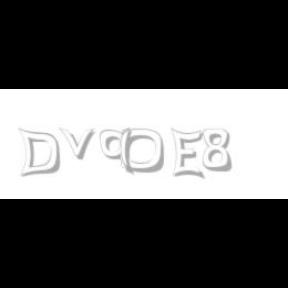8: (202, 128, 232, 172)
D: (17, 128, 60, 178)
E: (171, 128, 204, 180)
O: (120, 128, 166, 174)
q: (99, 128, 135, 176)
v: (59, 128, 99, 160)
